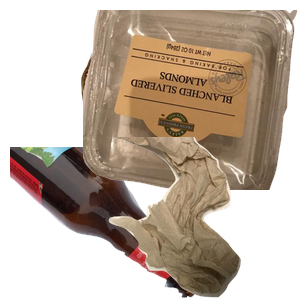glass: (10, 147, 207, 300)
metal: (78, 37, 243, 163)
plastic: (83, 10, 300, 190)
trash: (103, 137, 300, 300)
